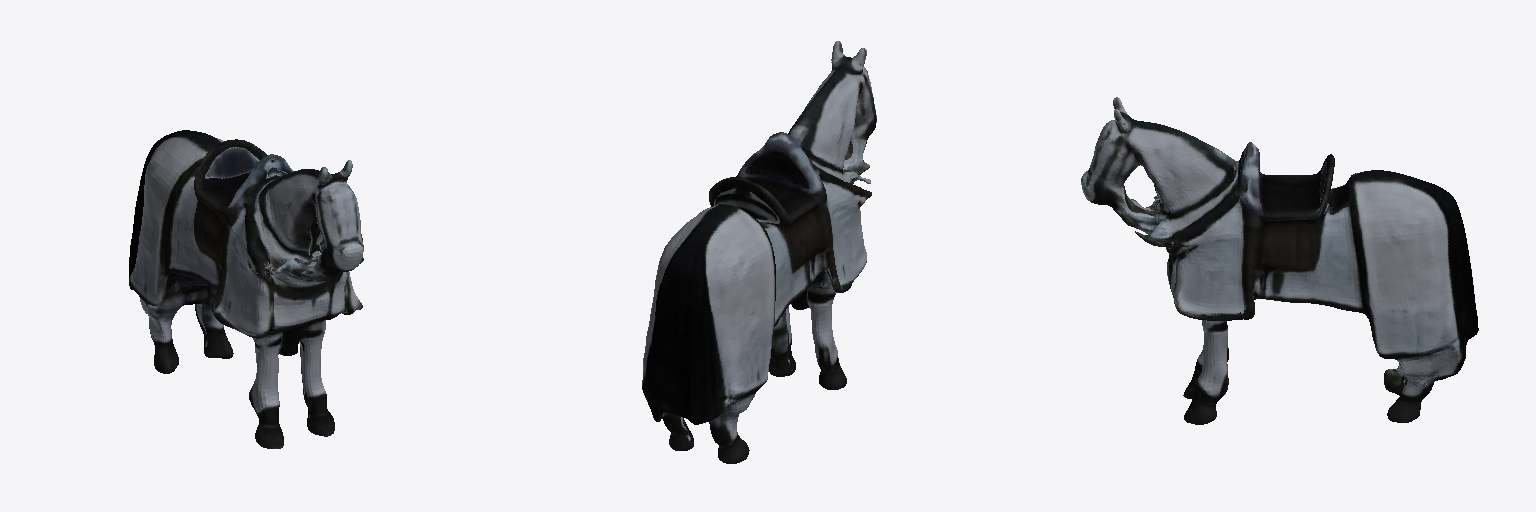
3 renders of one model, left to right at view 1: azimuth 30°, elevation 25°; view 2: azimuth 150°, elevation 25°; view 3: azimuth 270°, elevation 25°, orthographic.
Parts seen in each view (by area): view 1: mesh; view 2: mesh; view 3: mesh.
Boxes of the visible parts, <box> form: mesh: <box>129,130,363,448</box>; mesh: <box>642,41,876,463</box>; mesh: <box>1081,97,1478,424</box>.
Size of the model in its own units: 0.3393 by 0.8462 by 0.9989.
1 materials, 1 textured.